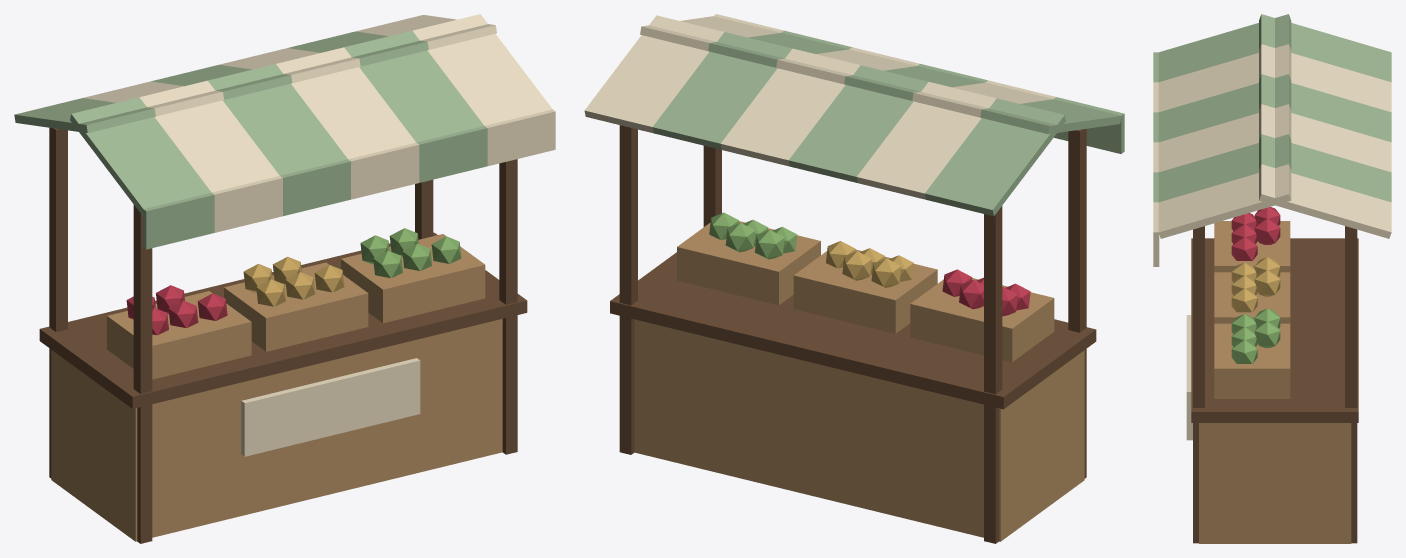
Rendered from market_stall.glb.
3 renders of one model, left to right at view 1: azimuth 30°, elevation 25°; view 2: azimuth 150°, elevation 25°; view 3: azimuth 270°, elevation 25°, orthographic. The views are drawn at different scales.
Visible parts, largest first — view 1: market_stall; view 2: market_stall; view 3: market_stall.
Boxes of the visible parts, box(x1,y1,x2,y2) form: market_stall: box(14, 14, 555, 543); market_stall: box(584, 14, 1124, 543); market_stall: box(1153, 14, 1391, 543).
Bounding box in the file's own units: 2.8 × 2.58 × 1.57.
